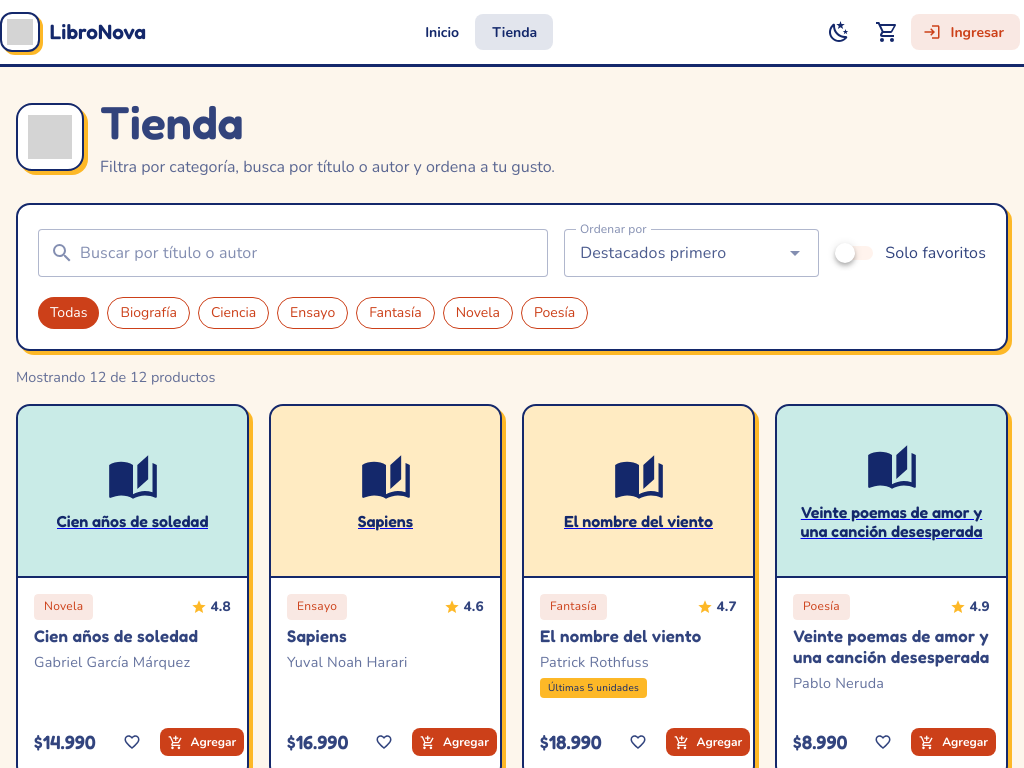
Scenario: Carrito de compras › agrega un producto, lo ve en el carrito y lo quita
The image size is (1024, 768).
Click the button with test id "btn-agregar" next to "$14.990" at (203, 742), box [160, 728, 245, 756]
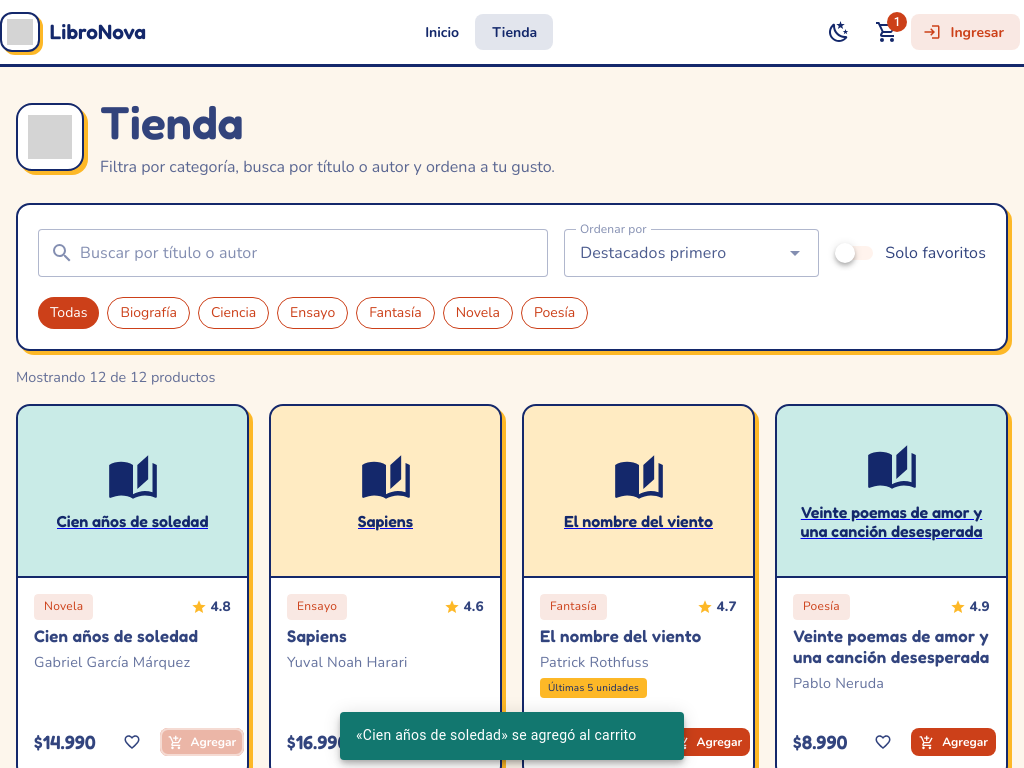
Expected: the link with test id "btn-carrito" has attribute "aria-label"
Click the link with test id "btn-carrito" at (887, 32), box [863, 8, 911, 56]
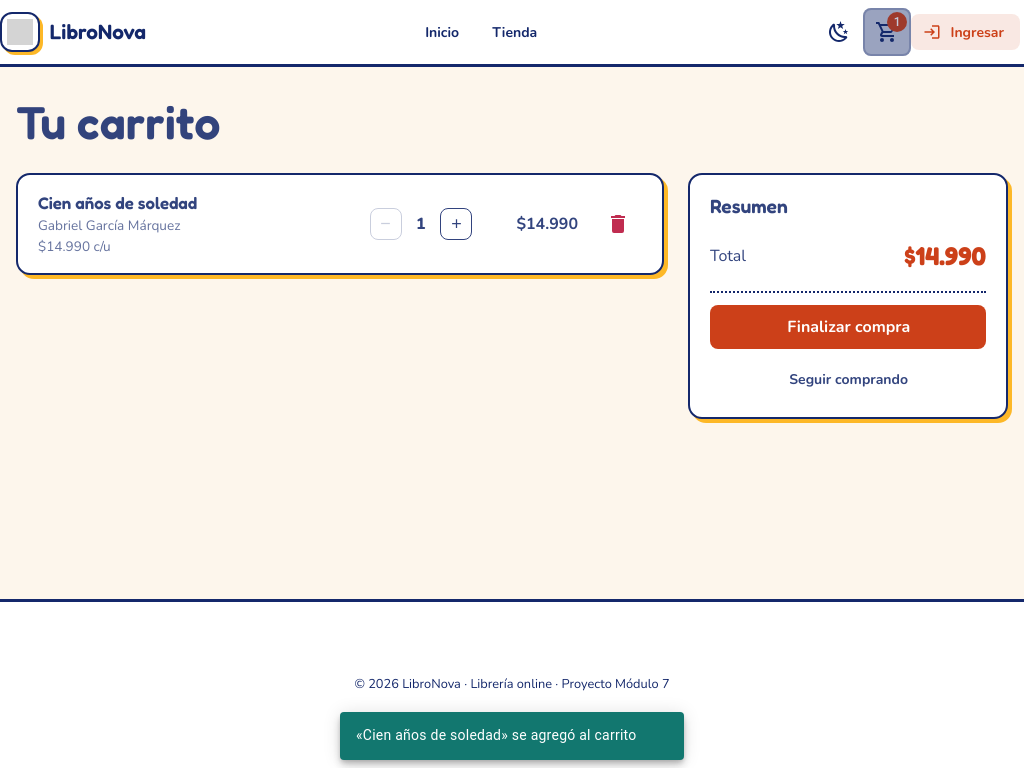
Expected: the link with test id "linea-carrito" reads "Cien años de soledad", [38, 193, 197, 213]
Expected: the number of list items with test id "linea-carrito" is 1, [16, 173, 664, 275]
Expected: the text with test id "total" shows "14.990", [904, 240, 986, 271]
Click the button with test id "btn-quitar" at (618, 224), box [594, 200, 642, 248]
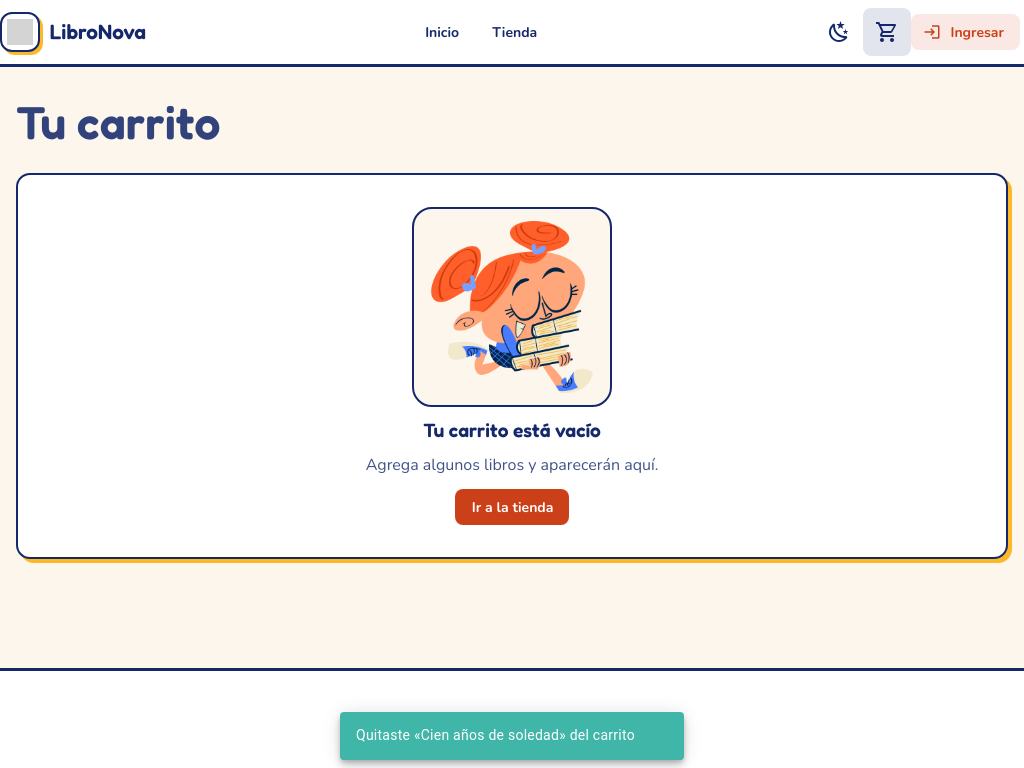
Expected: the heading with test id "estado-vacio" reads "Tu carrito está vacío", [423, 418, 600, 442]
